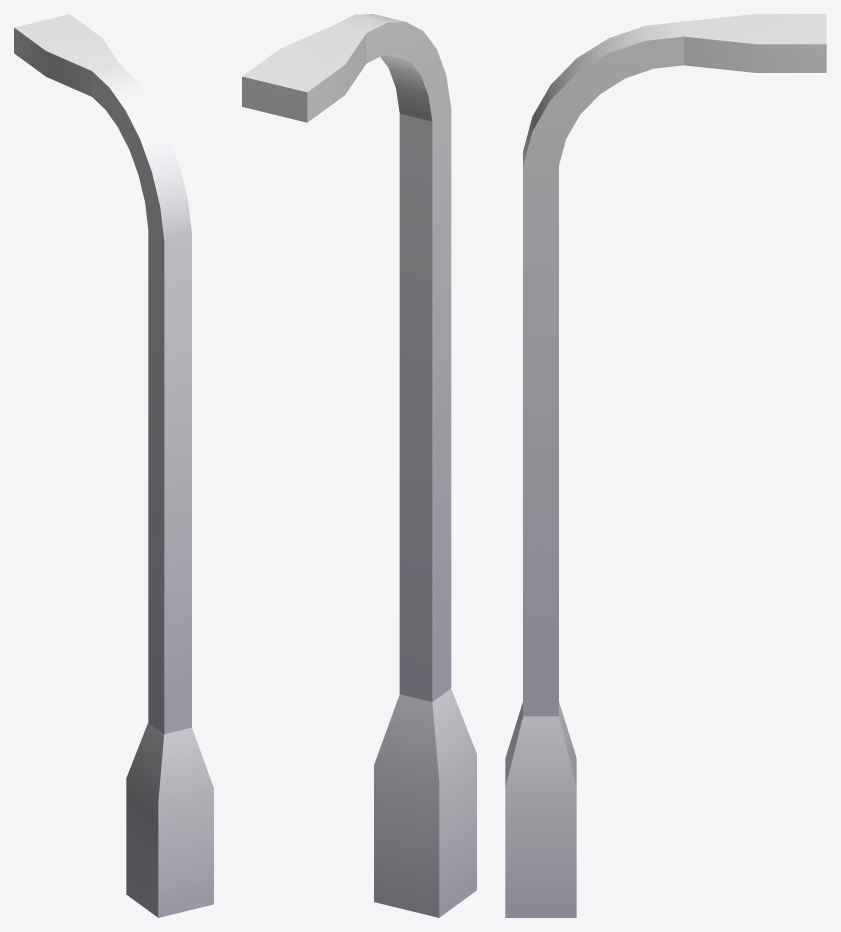
Rendered from light-curved.draco.glb.
3 renders of one model, left to right at view 1: azimuth 30°, elevation 25°; view 2: azimuth 150°, elevation 25°; view 3: azimuth 270°, elevation 25°, orthographic. The views are drawn at different scales.
Parts seen in each view (by area): view 1: light-curved; view 2: light-curved; view 3: light-curved.
Boxes of the visible parts, x1=… form: light-curved: x1=14, y1=14, x2=213, y2=917; light-curved: x1=242, y1=14, x2=476, y2=917; light-curved: x1=505, y1=14, x2=826, y2=917.
Size of the model in its own units: 0.05 by 0.675 by 0.225.
Materials: 1 (1 with a texture image).
